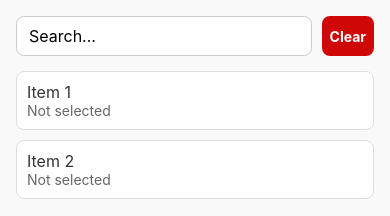
Test: <ListComponent /> › filters items based on search term
Type "Item 1" into the field with placeholder "Search..." at x=164, y=36, box [16, 16, 312, 56]
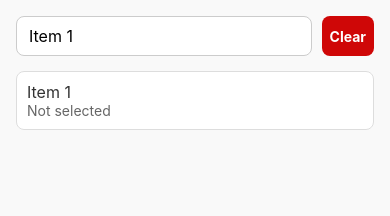
Expected: the text "Item 1" is shown, [27, 82, 71, 102]
Expected: the text "Item 2" is gone
